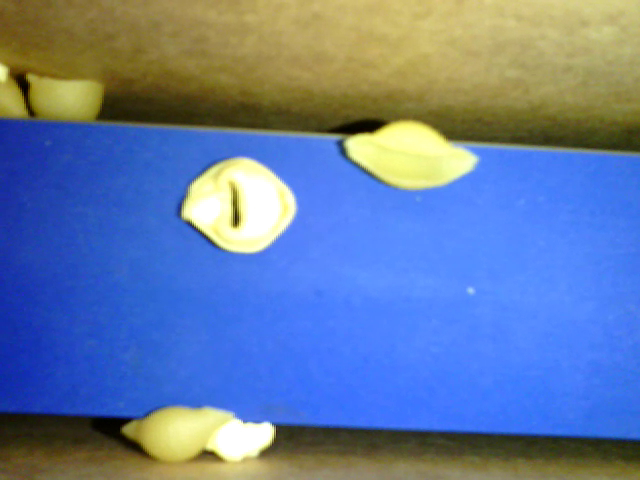shell: (342, 121, 481, 189), (119, 404, 233, 461), (24, 70, 102, 122)
tortellini: (178, 155, 298, 254)
